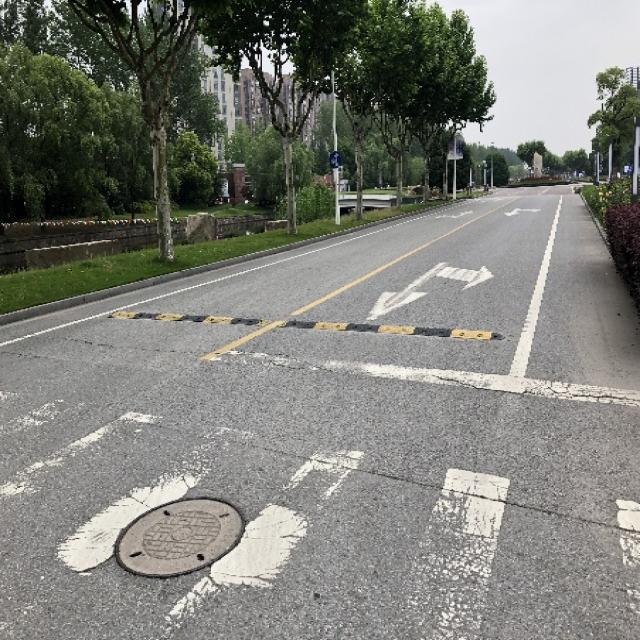Speed Bump: (108, 307, 512, 338)
